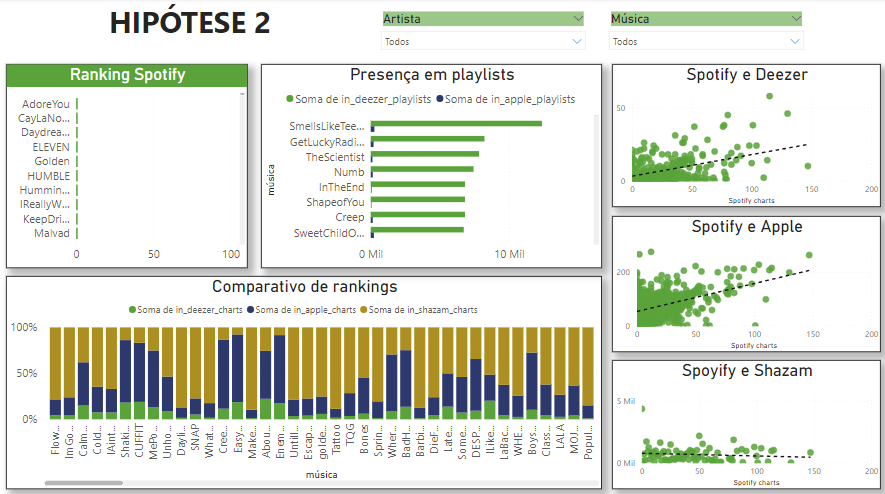

Layout of this report page (visuals, bound fields, positions):
{"tool":"powerbi","page":{"name":"Dashboard- Hipótese 2","canvas":[1280,720],"ordinal":34},"visuals":[{"type":"clusteredBarChart","title":"Ranking Spotify","fields":{"Category":["tabelas_unidas.track_name","tabelas_unidas.artisti_s__name"],"Y":["Sum(tabelas_unidas.in_spotify_charts)"]},"box":[10.1,95,348.5,293.8],"z":0},{"type":"hundredPercentStackedColumnChart","title":"Comparativo de rankings","fields":{"Category":["tabelas_unidas.track_name"],"Y":["Sum(tabelas_unidas.in_deezer_charts)","Sum(tabelas_unidas.in_apple_charts)","Sum(tabelas_unidas.in_shazam_charts)"]},"box":[10.1,400.3,858.2,306.7],"z":1000},{"type":"scatterChart","title":"Spotify e Deezer","fields":{"X":["tabelas_unidas.in_spotify_charts"],"Y":["tabelas_unidas.in_deezer_charts"]},"box":[882.7,95,387.4,205.9],"z":2000},{"type":"scatterChart","title":"Spotify e Apple ","fields":{"X":["tabelas_unidas.in_spotify_charts"],"Y":["tabelas_unidas.in_apple_charts"]},"box":[882.7,313.9,387.4,195.8],"z":3000},{"type":"scatterChart","title":"Spoyify e Shazam ","fields":{"X":["tabelas_unidas.in_spotify_charts"],"Y":["Sum(tabelas_unidas.in_shazam_charts)"]},"box":[882.7,521.3,387.4,185.8],"z":4000},{"type":"clusteredBarChart","title":"Presença em playlists","fields":{"Category":["tabelas_unidas.track_name"],"Y":["Sum(tabelas_unidas.in_deezer_playlists)","Sum(tabelas_unidas.in_apple_playlists)"]},"box":[377.3,95,491,293.8],"z":5000},{"type":"slicer","fields":{"Values":["tabelas_unidas.track_name"]},"box":[868.3,14.4,301,70.6],"z":6000},{"type":"slicer","fields":{"Values":["tabelas_unidas.artisti_s__name"]},"box":[540,14.4,315.4,70.6],"z":7000},{"type":"textbox","box":[10.1,0,529.9,67.7],"z":8000}]}

Visuals, with their boxes in screenshot pixels (x1, y1, x2, y2), scaled from the page's 1280x720 canvas onto the 885x494 screenshot:
"Ranking Spotify" clusteredBarChart: [left=7, top=65, right=248, bottom=267]
"Comparativo de rankings" hundredPercentStackedColumnChart: [left=7, top=275, right=600, bottom=485]
"Spotify e Deezer" scatterChart: [left=610, top=65, right=878, bottom=206]
"Spotify e Apple " scatterChart: [left=610, top=215, right=878, bottom=350]
"Spoyify e Shazam " scatterChart: [left=610, top=358, right=878, bottom=485]
"Presença em playlists" clusteredBarChart: [left=261, top=65, right=600, bottom=267]
slicer - tabelas_unidas.track_name: [left=600, top=10, right=808, bottom=58]
slicer - tabelas_unidas.artisti_s__name: [left=373, top=10, right=591, bottom=58]
textbox: [left=7, top=0, right=373, bottom=46]
